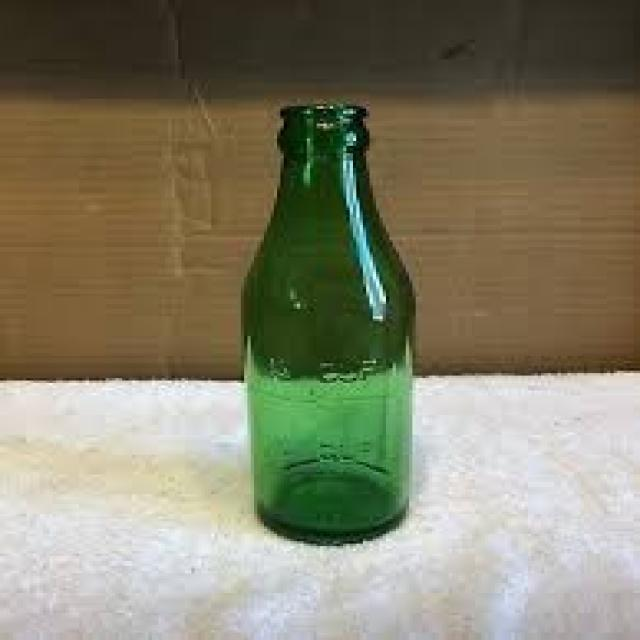cardboard: (0, 0, 637, 376)
glass: (235, 101, 413, 544)
